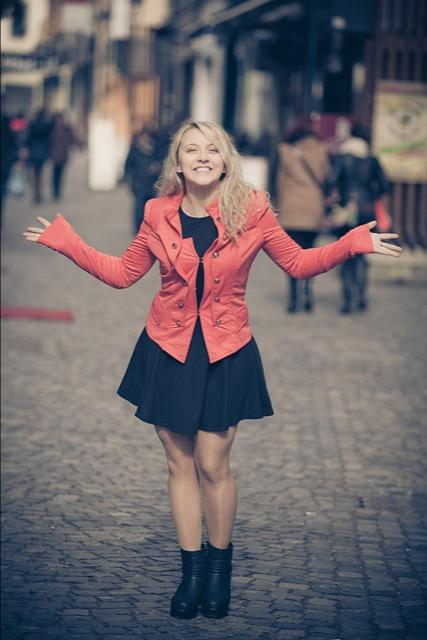Non_Gorille: (29, 69, 406, 640)
